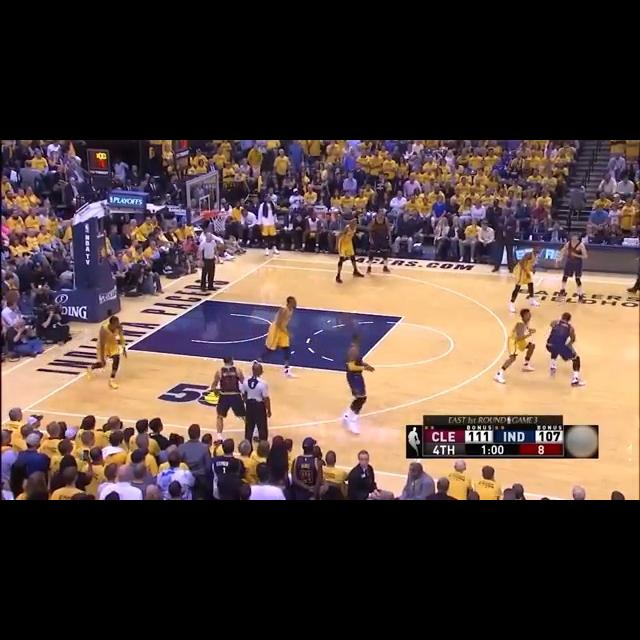hoop: (206, 208, 234, 234)
